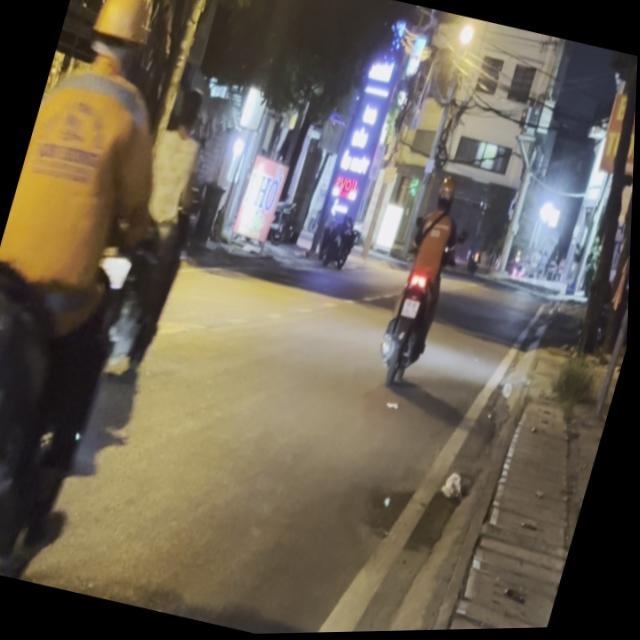helmet: (79, 0, 160, 76), (435, 176, 459, 212)
licenseplate: (0, 0, 236, 592), (371, 172, 477, 391)
motorcyclist: (171, 83, 209, 135)
nohelmet: (402, 299, 423, 321)
